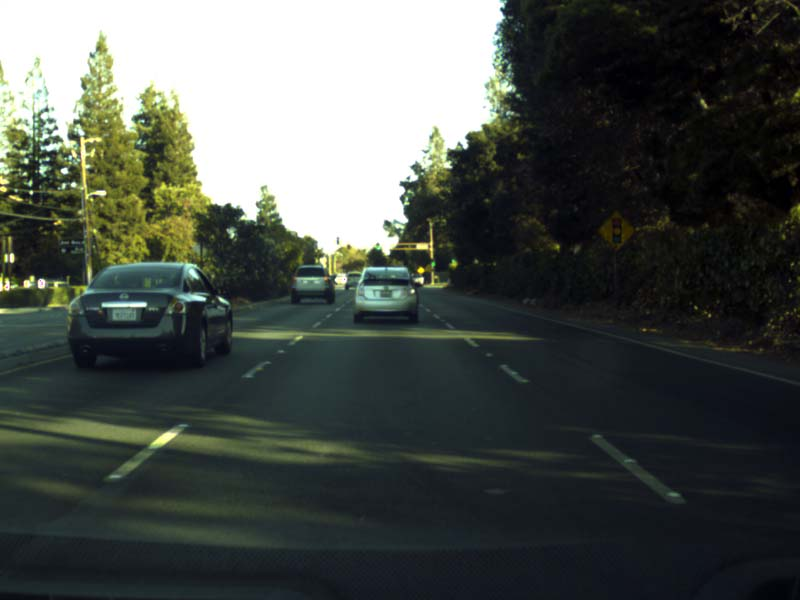Green: (374, 242, 379, 249), (430, 260, 435, 265)
